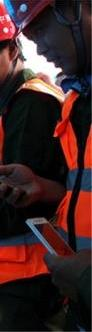gloves: (0, 212, 13, 236)
hard-hat: (0, 111, 29, 179)
vest: (0, 165, 24, 246)
